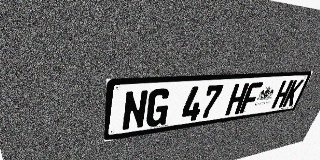4: (180, 86, 206, 122)
7: (198, 85, 224, 120)
F: (239, 82, 263, 114)
G: (145, 88, 172, 128)
H: (225, 83, 249, 116), (271, 80, 294, 109)
K: (282, 79, 304, 107)
N: (121, 89, 149, 131)
